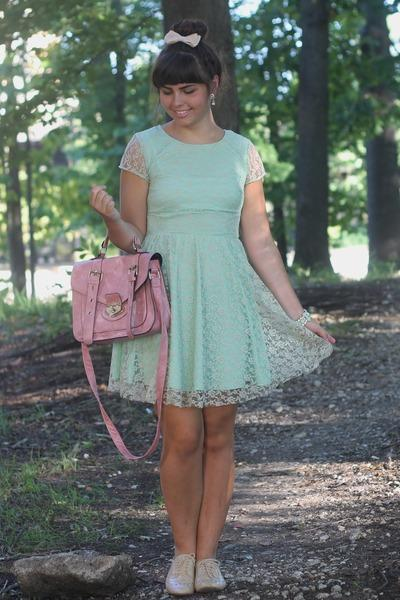bag: (61, 252, 170, 463)
dress: (108, 125, 334, 409)
shoe: (166, 552, 225, 593)
